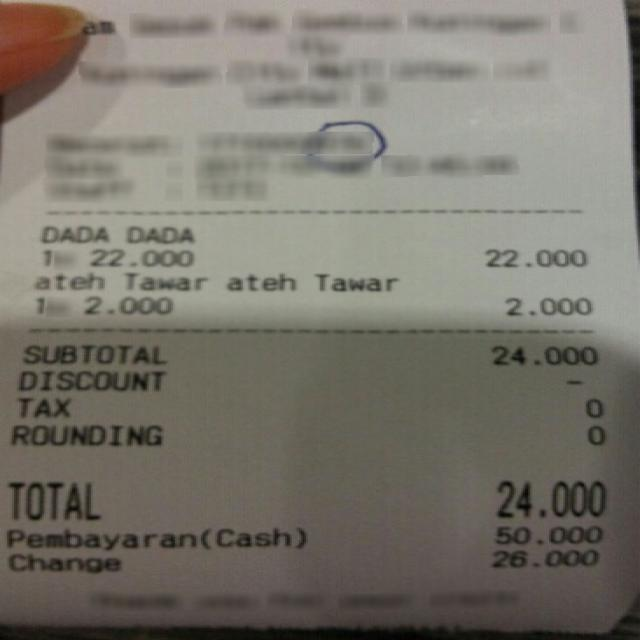text: (1, 526, 302, 553), (495, 477, 605, 515), (5, 481, 96, 519), (19, 343, 164, 365), (9, 424, 159, 445), (12, 369, 161, 389), (7, 551, 117, 572), (488, 343, 596, 364), (84, 293, 171, 317), (488, 547, 596, 566), (483, 247, 584, 267), (491, 524, 600, 542), (502, 294, 587, 316), (87, 248, 189, 265), (124, 222, 191, 244), (313, 272, 393, 289), (124, 272, 203, 289), (37, 224, 105, 242), (31, 271, 98, 288), (226, 272, 292, 289), (16, 396, 66, 414), (19, 296, 49, 316), (582, 394, 604, 416), (582, 424, 605, 444), (40, 249, 56, 264)
